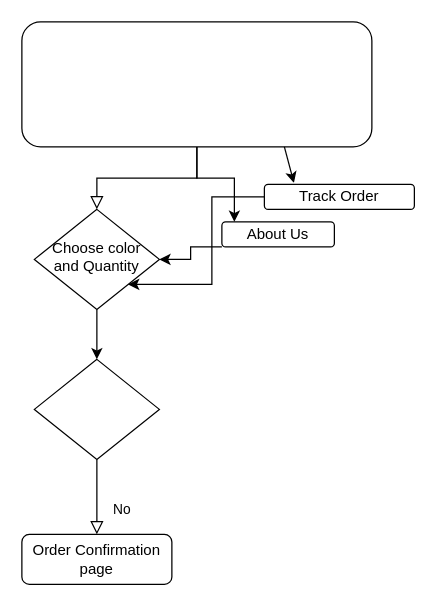
Some shapes in this 436 by 606 pixel diagram are drawn without their labels. The shapes that lost their labels are listed below. From the top down, each one's box as (x1, y1, x2, y2) in pixels, then its label:
(21, 21, 372, 147): Home Page
(33, 358, 159, 459): Checkout
